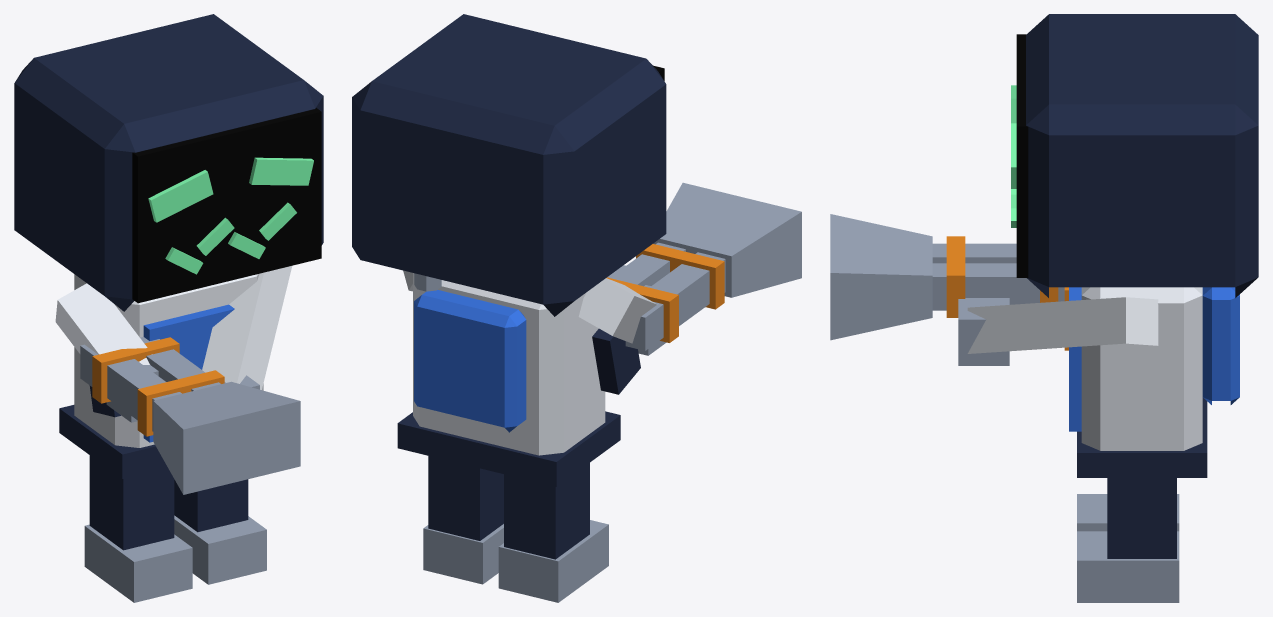
The model's file is shotgunner_r9.glb.
The picture shows the model from 3 angles, left to right: view 1: azimuth 30°, elevation 25°; view 2: azimuth 150°, elevation 25°; view 3: azimuth 270°, elevation 25°; orthographic projection. The views are drawn at different scales.
Parts seen in each view (by area): view 1: shotgunner_r9_mesh; view 2: shotgunner_r9_mesh; view 3: shotgunner_r9_mesh.
Part boxes in pixels (x1,y1,x2,y2): shotgunner_r9_mesh: (14,14,323,602); shotgunner_r9_mesh: (352,14,801,602); shotgunner_r9_mesh: (830,14,1258,602).
Size of the model in its own units: 0.8002 by 1.5 by 1.14.
1 material, 1 textured.
